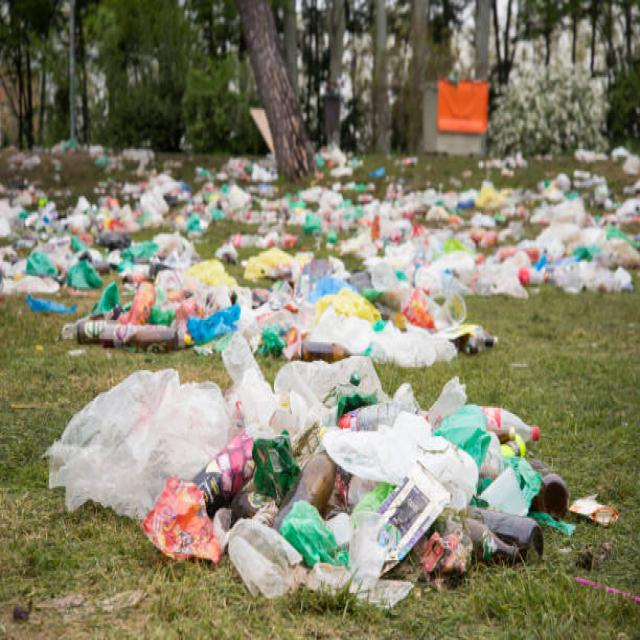trash: (91, 359, 593, 551), (20, 201, 606, 320)
